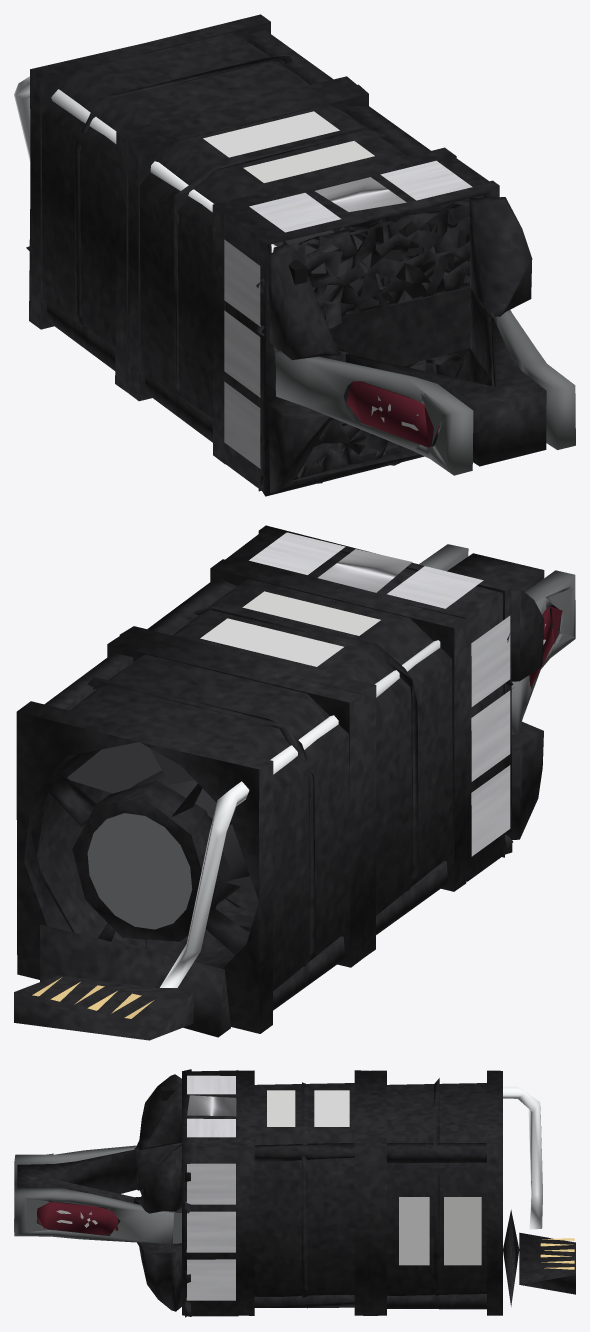
Rendered from FAN-T4-R.far.glb.
3 renders of one model, top to bottom at view 1: azimuth 30°, elevation 25°; view 2: azimuth 150°, elevation 25°; view 3: azimuth 270°, elevation 25°, orthographic. The views are drawn at different scales.
Parts seen in each view (by area): view 1: Body_far; view 2: Body_far; view 3: Body_far.
Boxes of the visible parts, x1=… form: Body_far: x1=14, y1=14, x2=575, y2=496; Body_far: x1=14, y1=525, x2=575, y2=1040; Body_far: x1=14, y1=1069, x2=575, y2=1317.
Bounding box in the file's own units: 0.0403 × 0.0412 × 0.1192.
4 materials, 3 textured.
